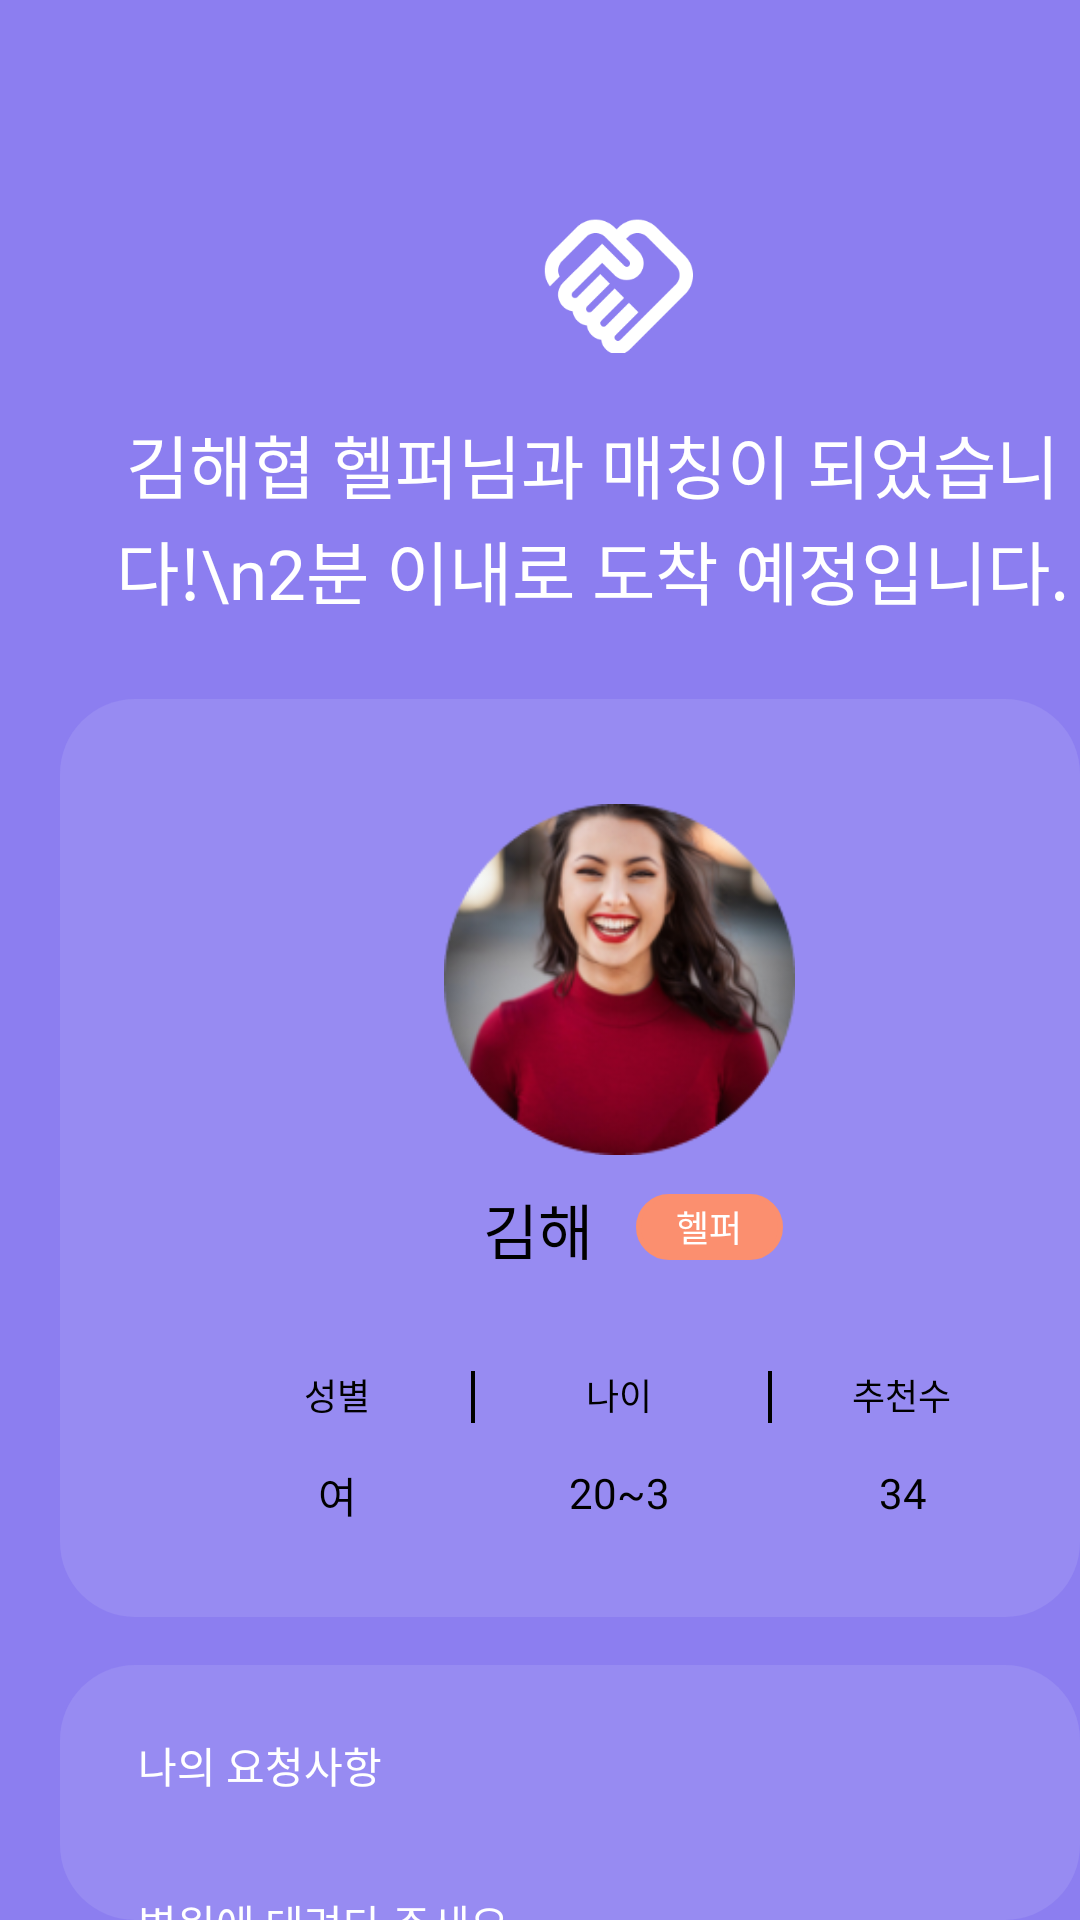

Icons on this 1080w x 1920h Android screen, each with the point to tap as [x,y]:
match hand: [619,286]
